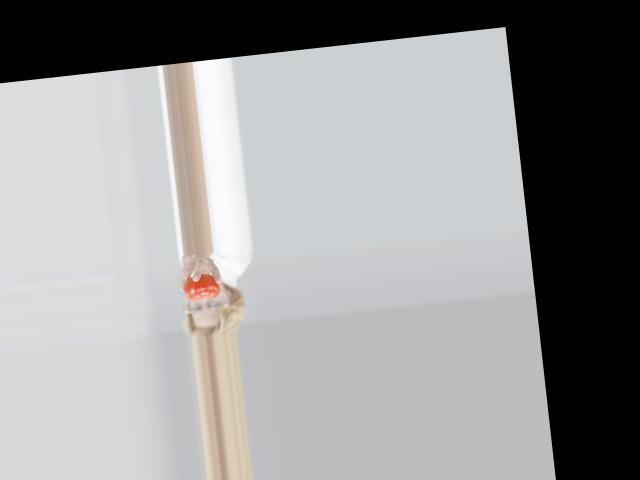tomato: (183, 272, 222, 300)
